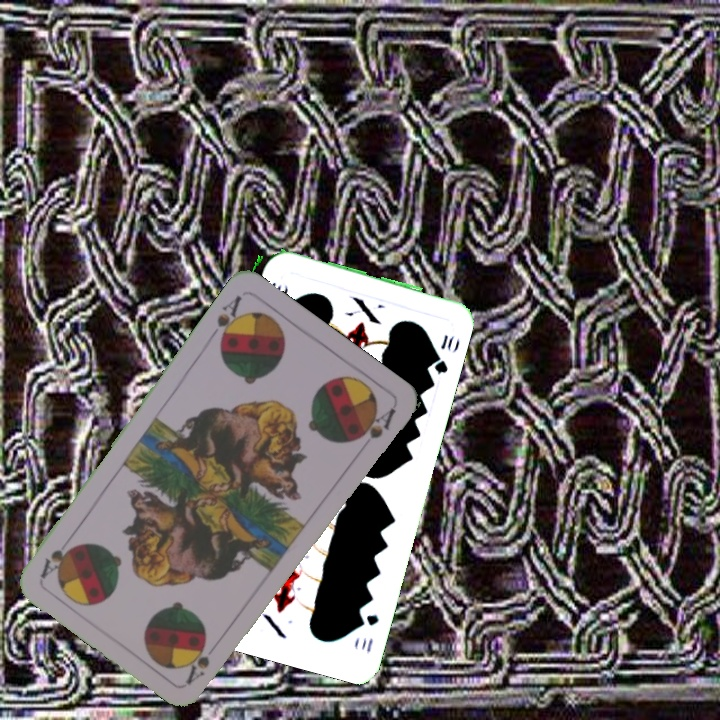G10: (354, 610, 381, 655)
SA: (205, 290, 246, 349), (182, 643, 212, 686)
